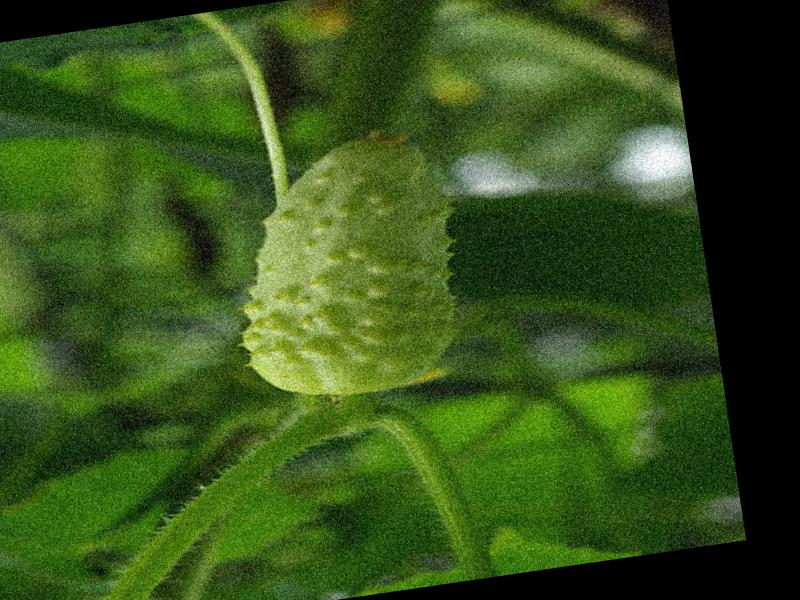Cucumber: (213, 119, 471, 410)
